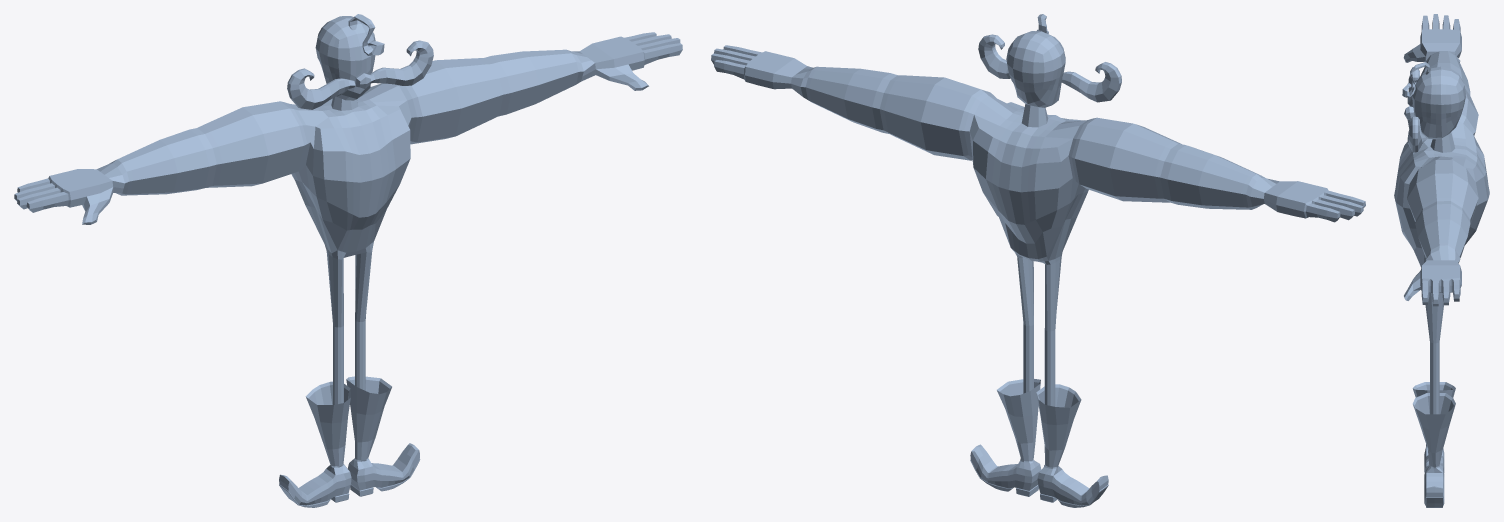
Rendered from Strongman.fbx.
3 views of the same model, side by side, from view 1: azimuth 30°, elevation 25°; view 2: azimuth 150°, elevation 25°; view 3: azimuth 270°, elevation 25° (orthographic). The views are drawn at different scales.
Visible parts, largest first — view 1: Cube.001; view 2: Cube.001; view 3: Cube.001.
Boxes of the visible parts, x1=… form: Cube.001: x1=14, y1=14, x2=682, y2=507; Cube.001: x1=711, y1=14, x2=1365, y2=507; Cube.001: x1=1394, y1=14, x2=1489, y2=507.
Bounding box in the file's own units: 514 × 360 × 72.82.
